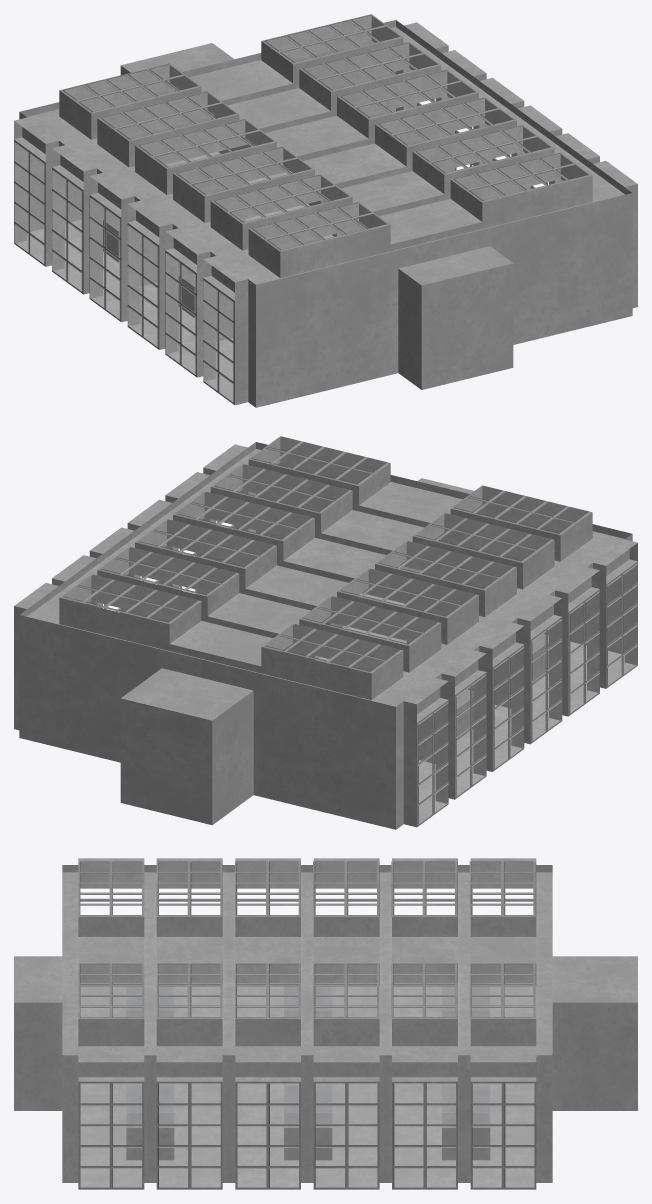
The picture shows the model from 3 angles, top to bottom: view 1: azimuth 30°, elevation 25°; view 2: azimuth 150°, elevation 25°; view 3: azimuth 270°, elevation 25°; orthographic projection. The views are drawn at different scales.
Parts seen in each view (by area): view 1: Wall, Frame, Floor; view 2: Wall, Frame, Floor; view 3: Wall, Frame, Floor, Glass.
Boxes of the visible parts, x1,y1,x2,y2 form: Wall: [14, 14, 637, 407]; Frame: [14, 14, 592, 404]; Floor: [16, 133, 522, 401]; Wall: [14, 437, 637, 829]; Frame: [60, 436, 637, 826]; Floor: [129, 555, 635, 823]; Wall: [14, 858, 637, 1182]; Frame: [78, 861, 536, 1189]; Floor: [80, 985, 536, 1187]; Glass: [81, 889, 532, 1127].
Bounding box in the file's own units: 1.47 × 0.4956 × 1.89.
4 materials, 4 textured.
